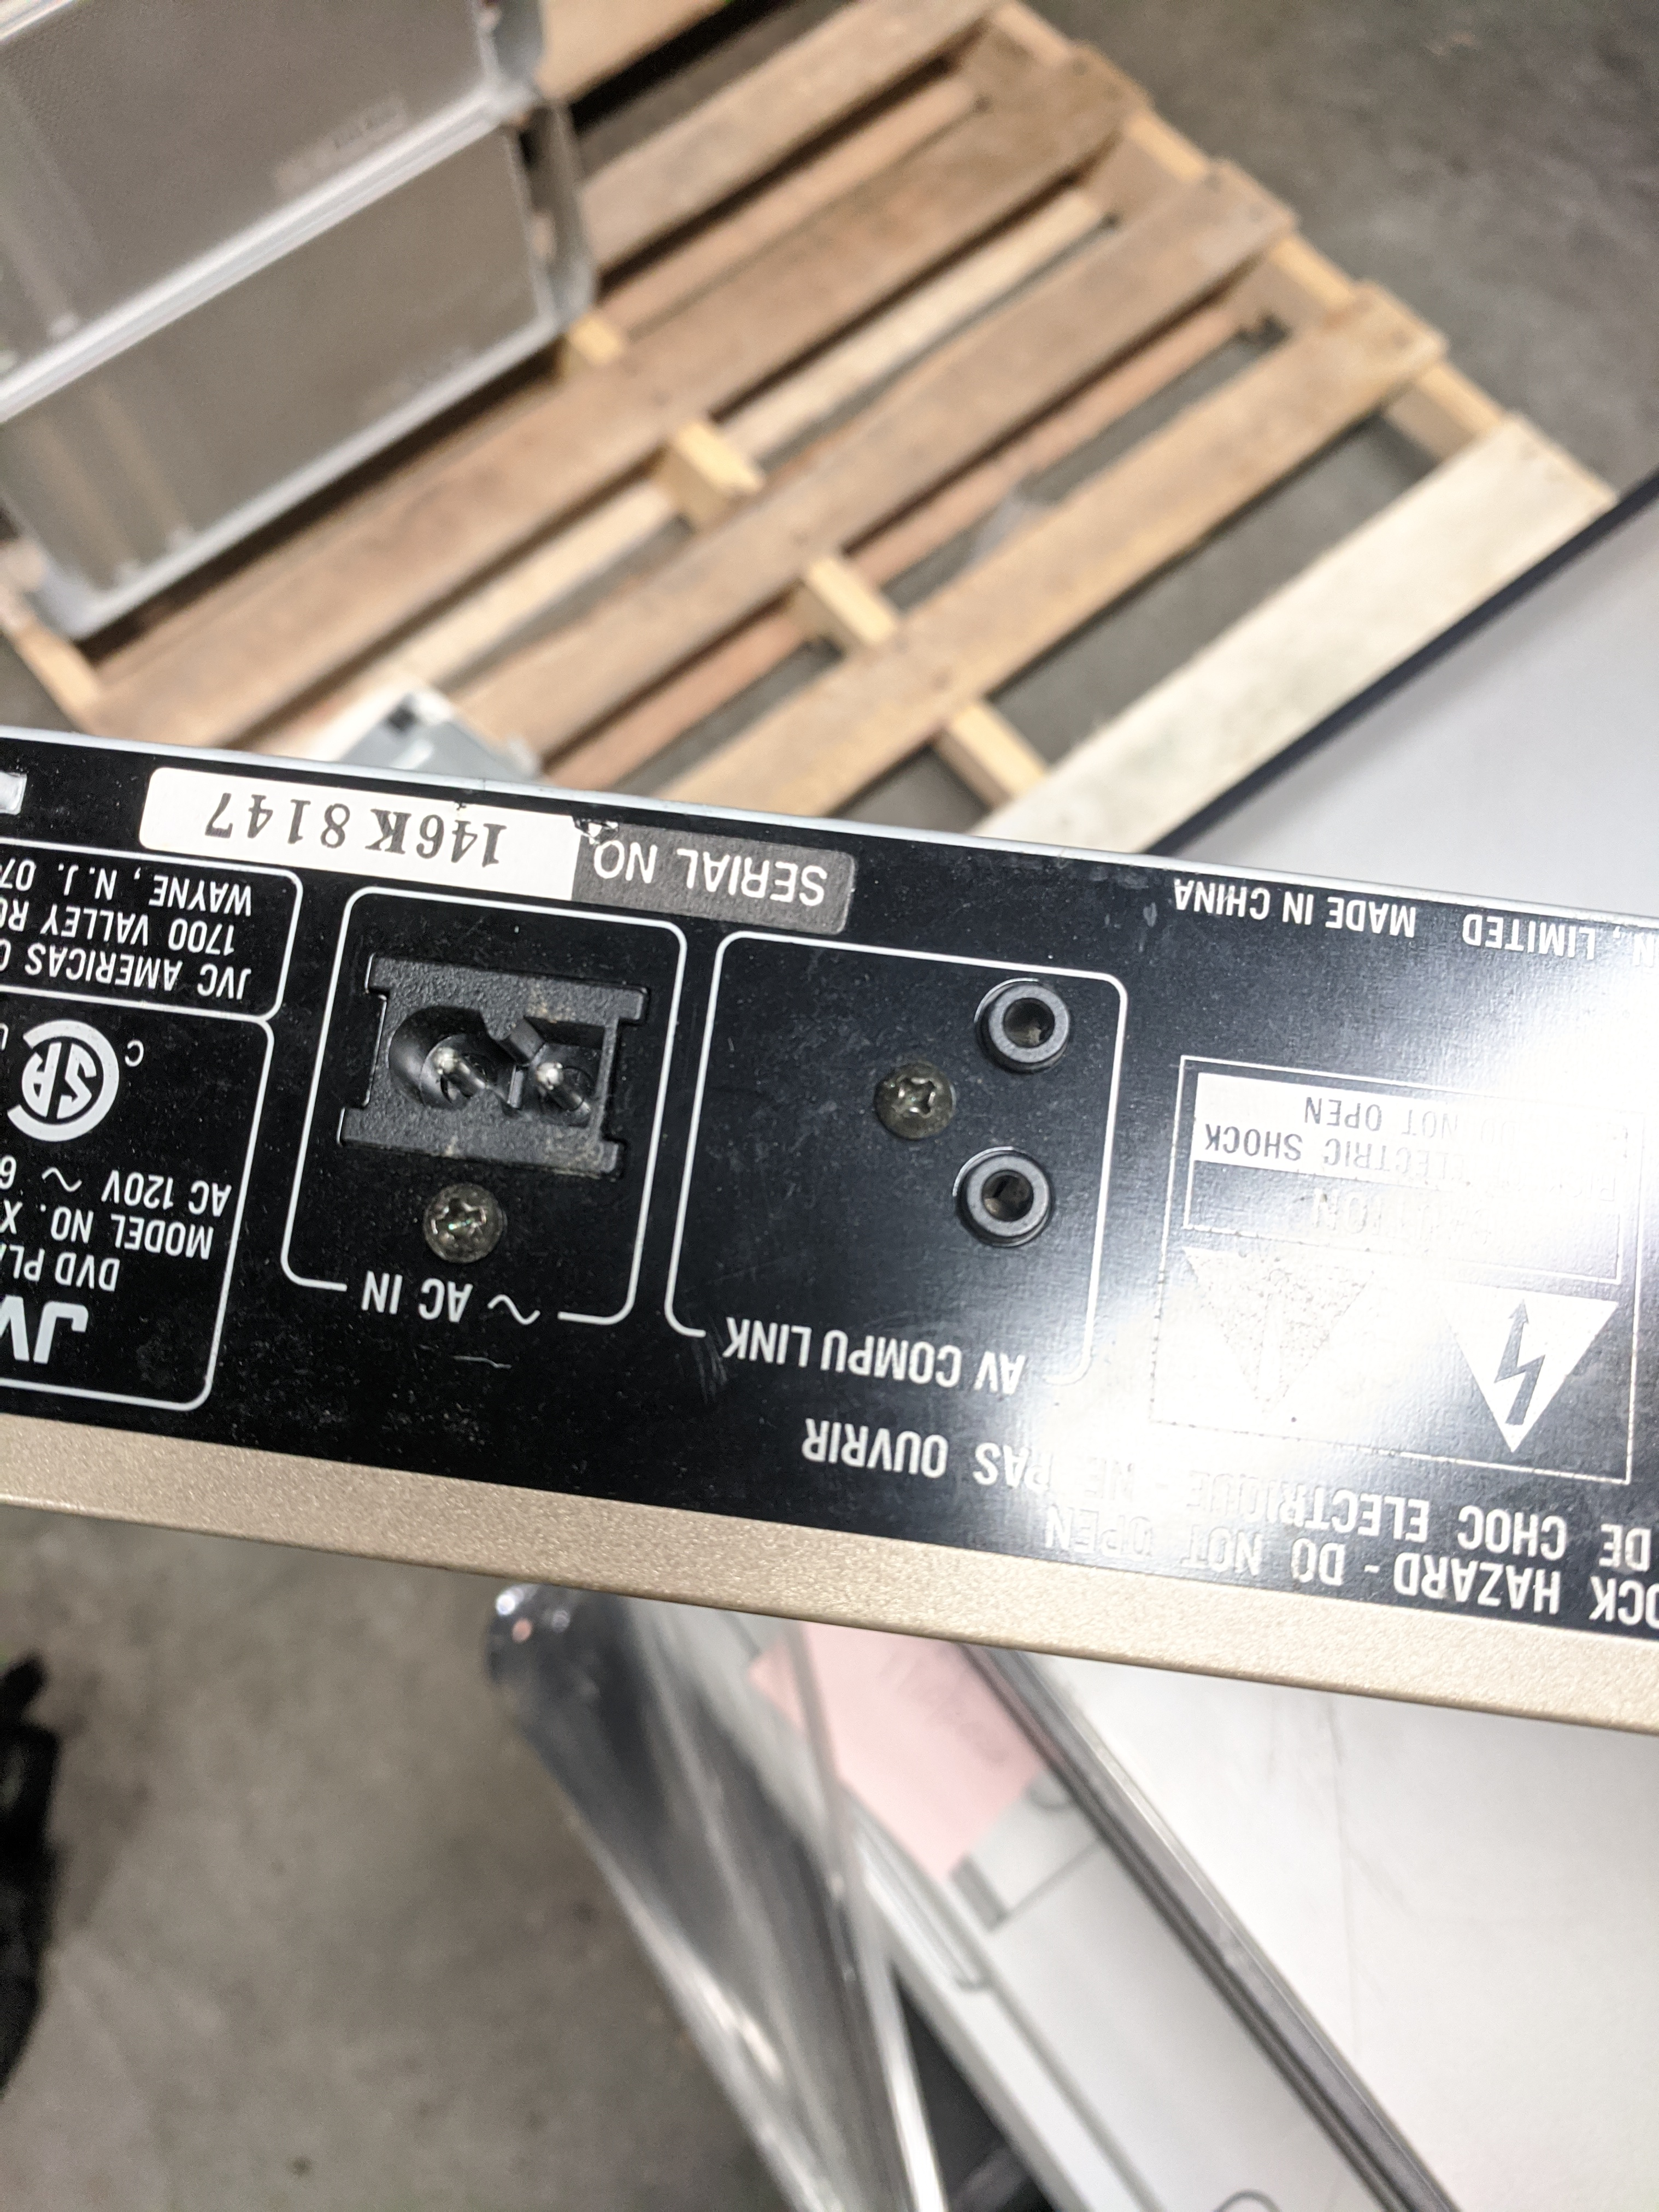cross_recessed_screw: (864, 1050, 962, 1144), (411, 1169, 500, 1264)
